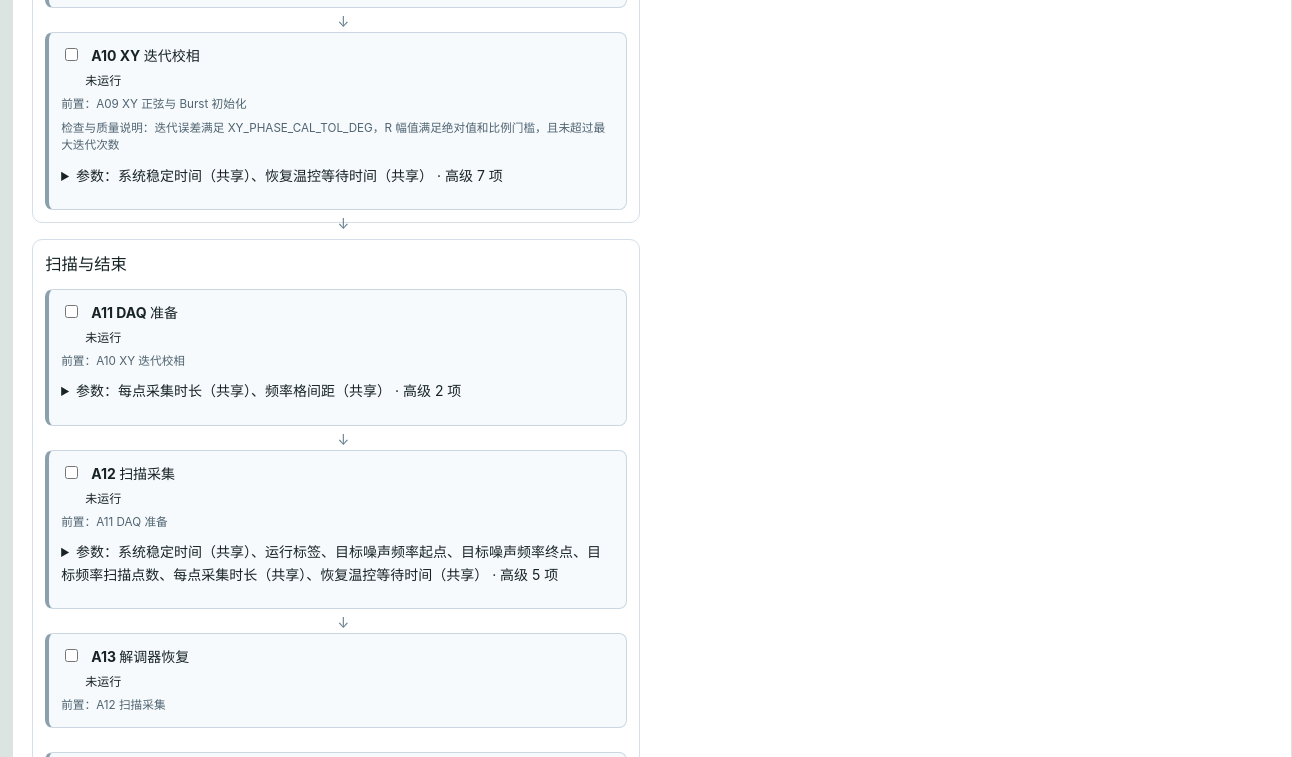
Scenario: 时长变化更新只读分段预览，过短时长明确报错，并显示实际分析段数
The image size is (1292, 757).
(page scrolled)
Click the heading "参数：每点采集时长（共享）、频率格间距（共享） · 高级 2 项" at {"x": 269, "y": 391}, box [76,382,461,399]
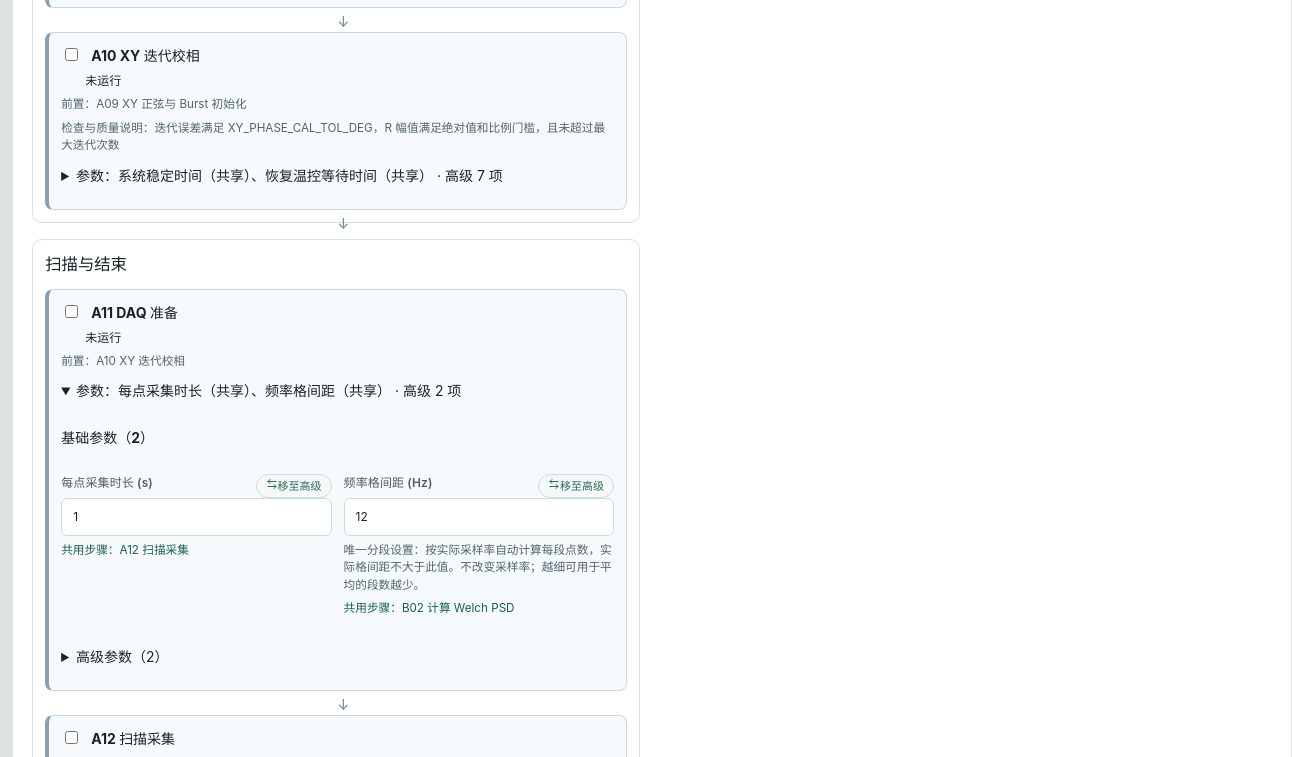
Replace the text in the number field labelled "每点采集时长 (s)" with "5" at {"x": 196, "y": 517}, box [61,498,332,536]
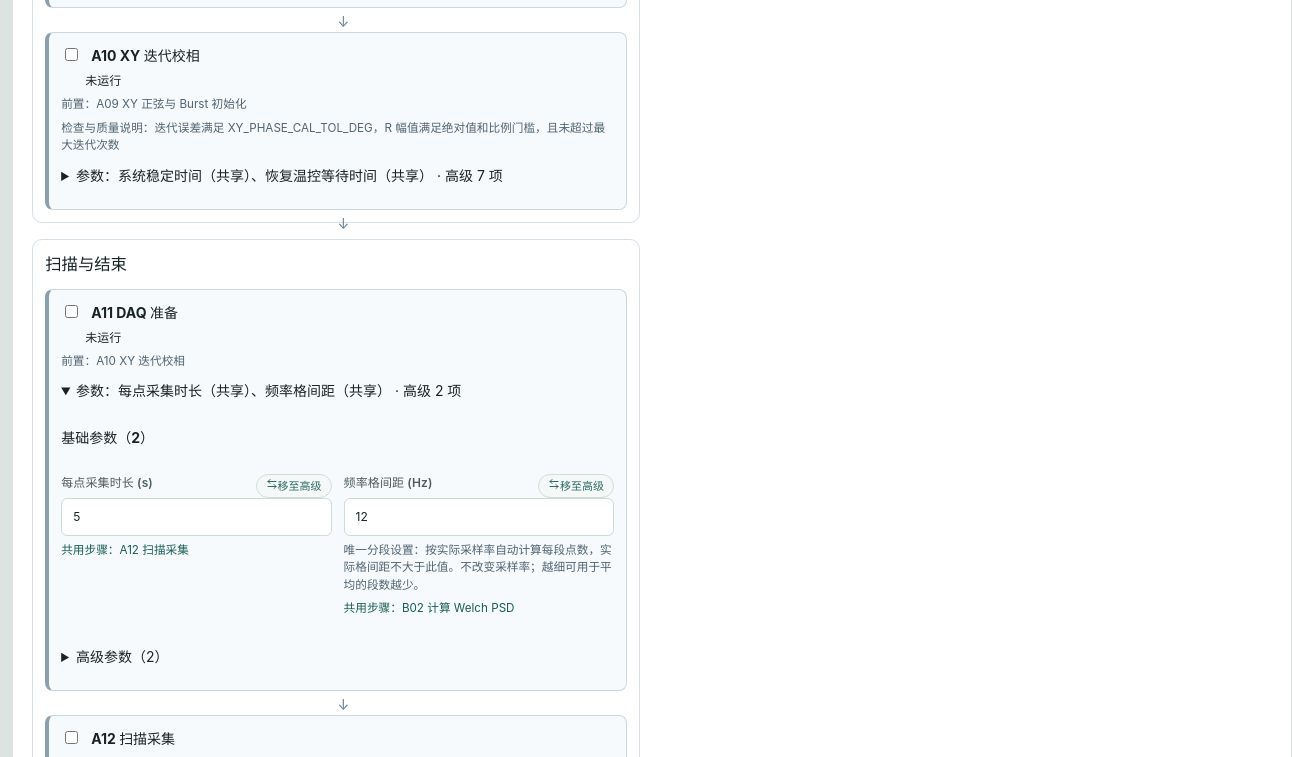
Replace the text in the number field labelled "每点采集时长 (s)" with "0.01" at {"x": 196, "y": 517}, box [61,498,332,536]
(page scrolled)
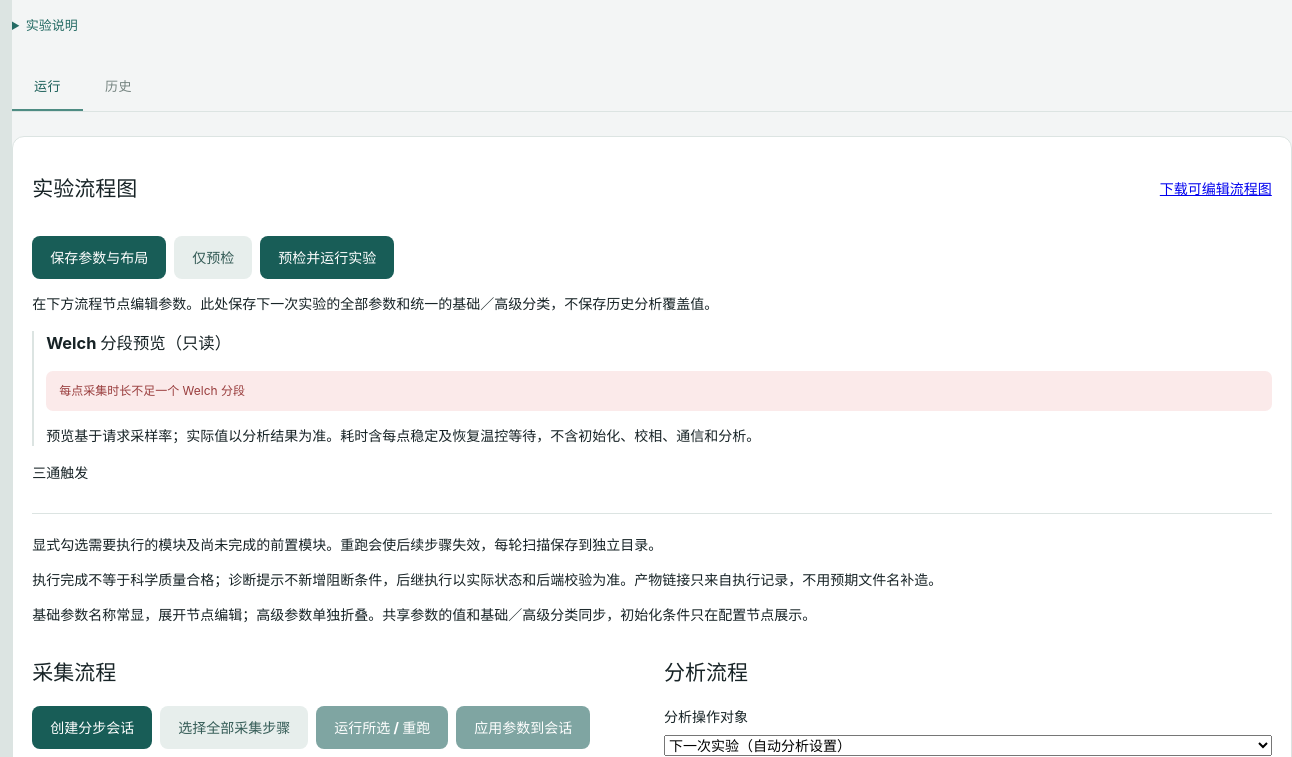
Expected: the text "每点采集时长不足一个 Welch 分段" is shown, [46,372,1272,412]
